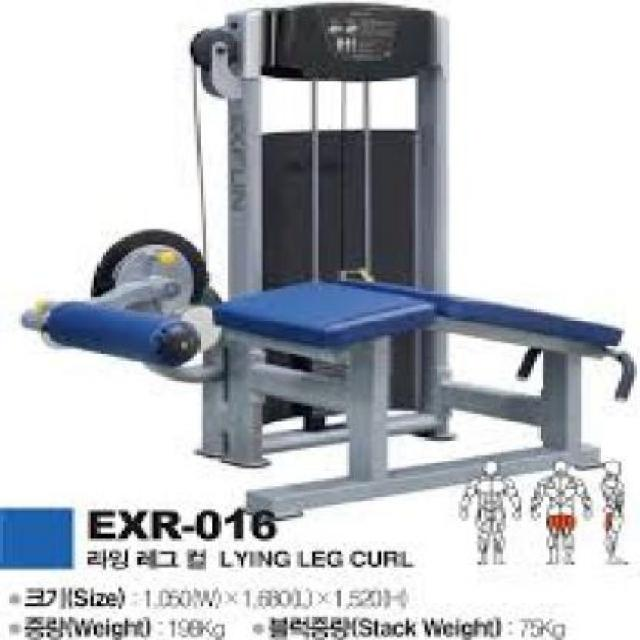reg curl machine: (23, 1, 640, 522)
